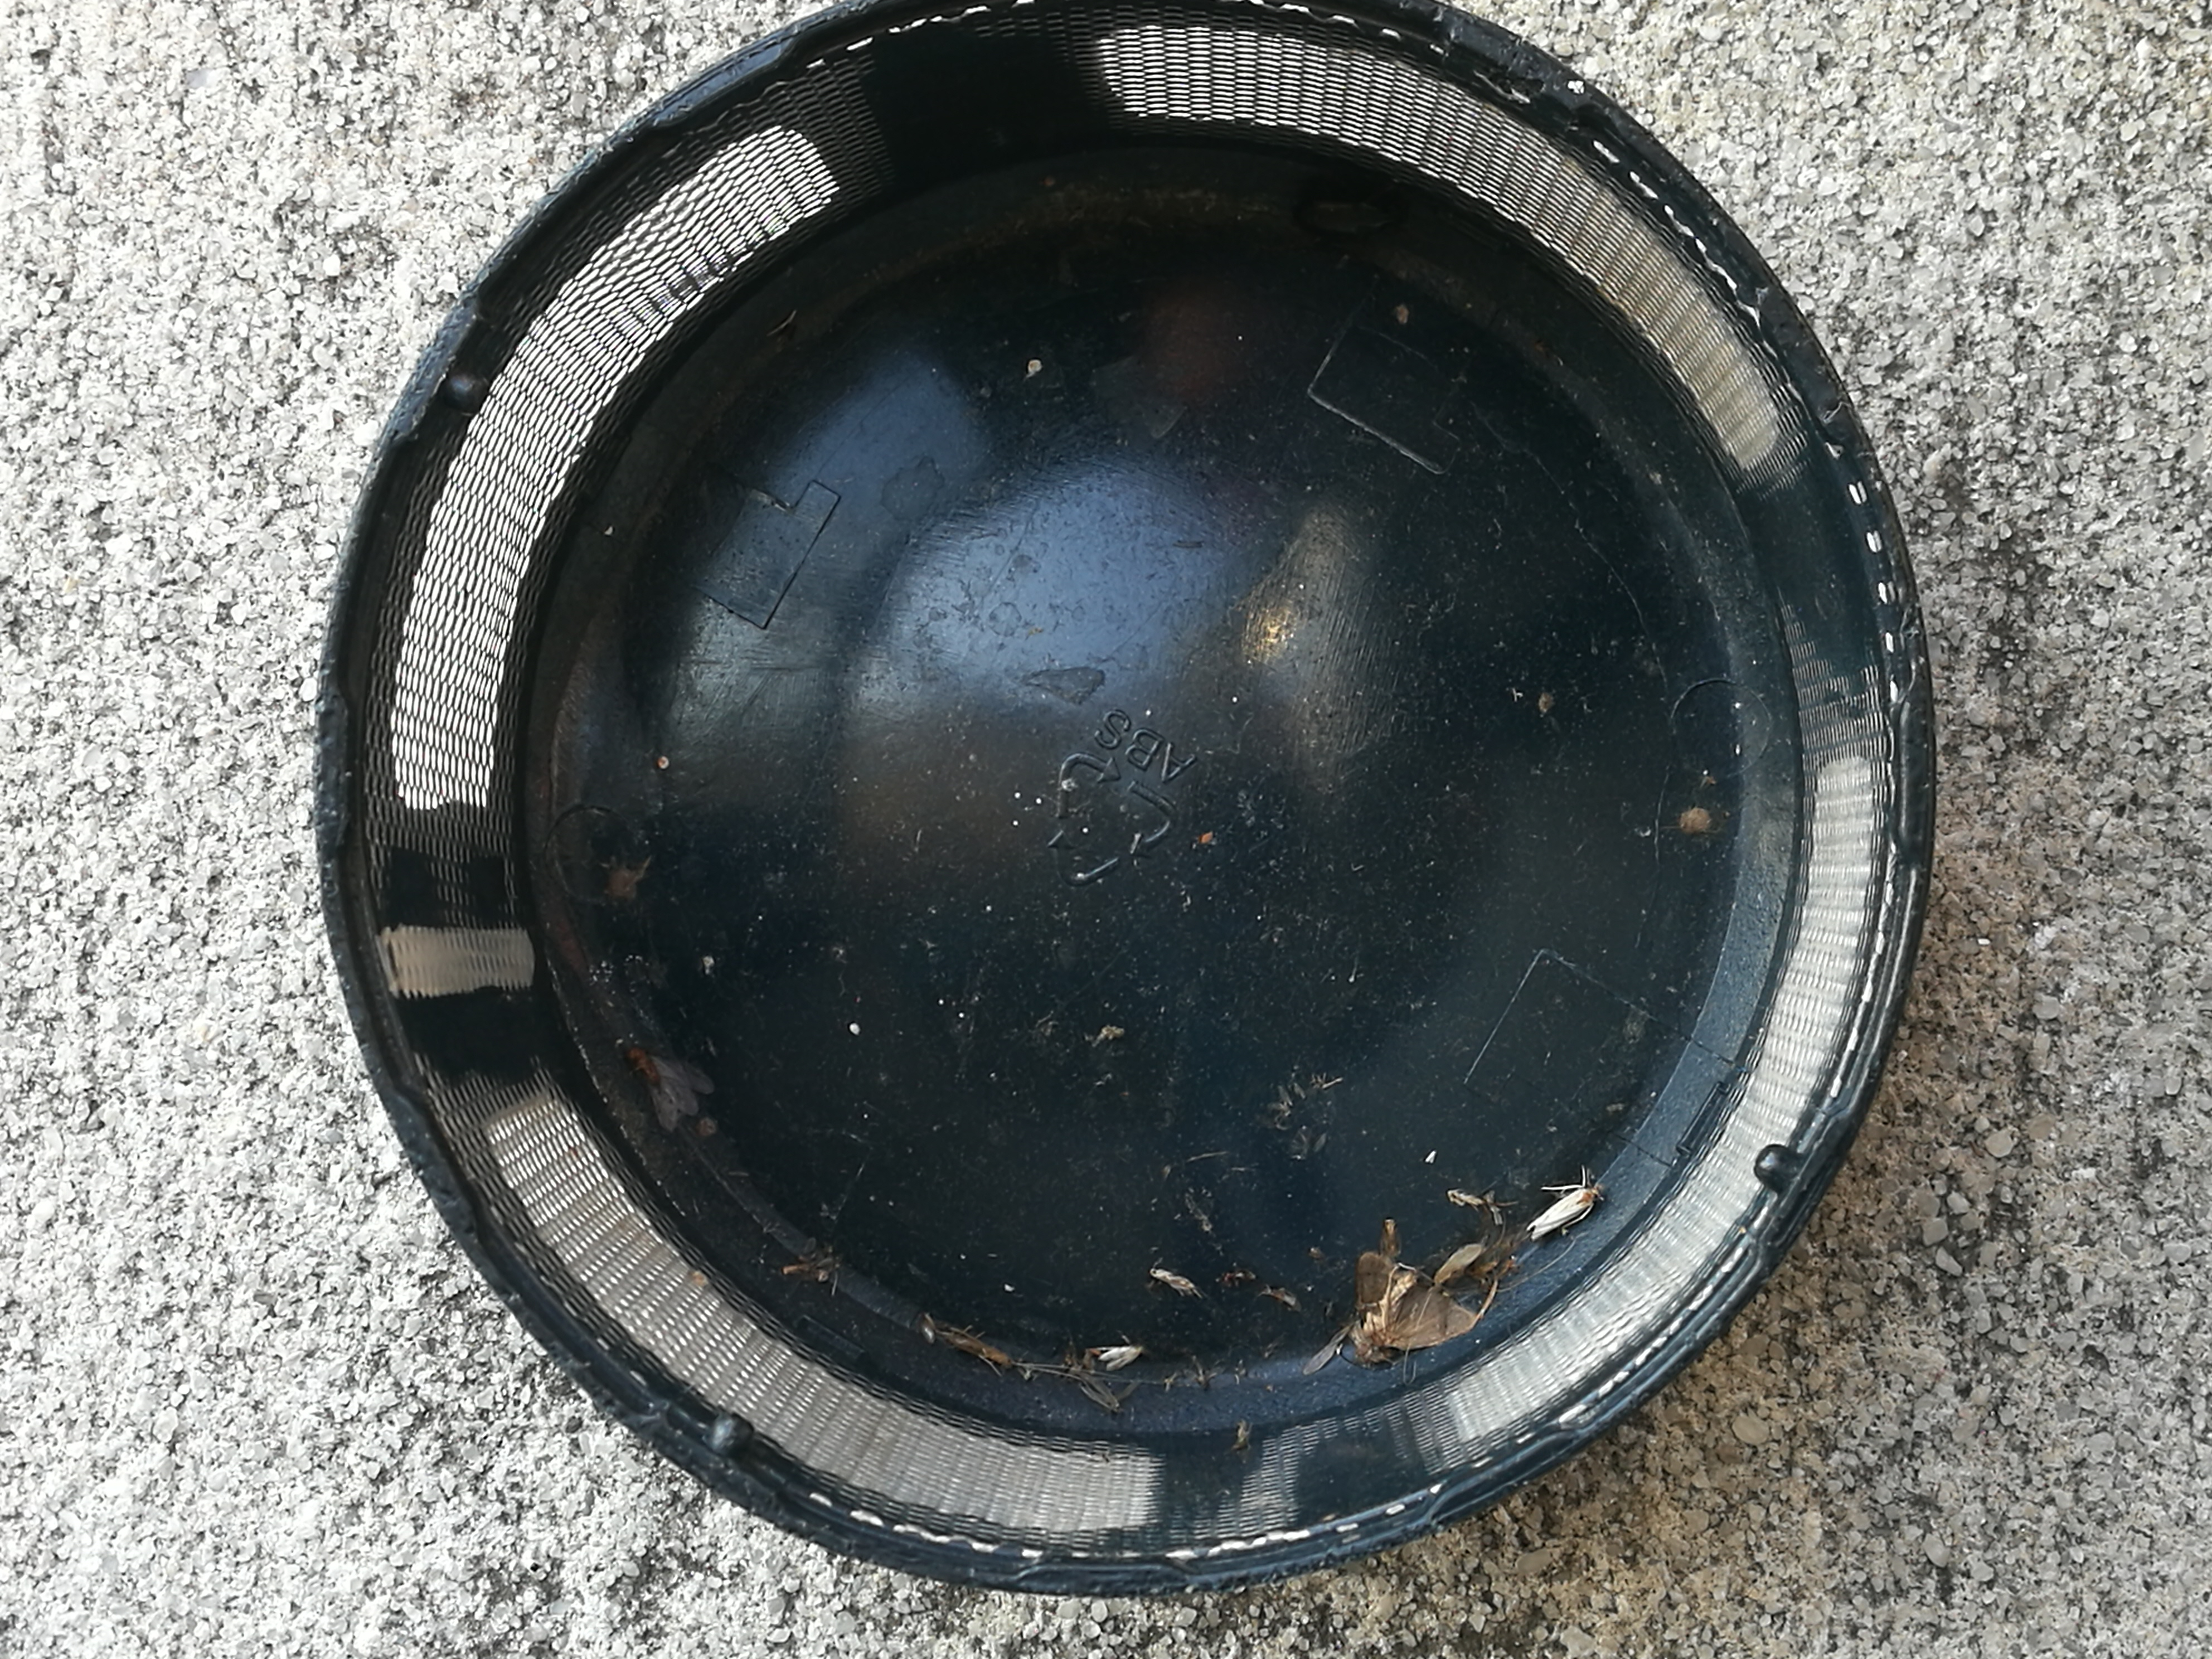beetle: (1294, 197, 1404, 235)
mosquito: (1529, 1188, 1599, 1239), (941, 1328, 1012, 1364), (1433, 1243, 1482, 1283), (1151, 1269, 1193, 1291)
moth: (1355, 1251, 1477, 1363), (627, 1049, 716, 1133), (1099, 1347, 1144, 1366)
